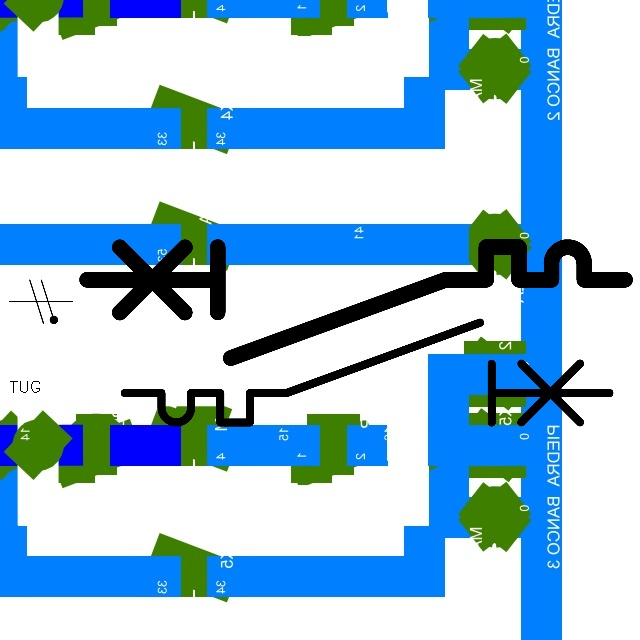interruptor_termomagnetico: (73, 233, 639, 371), (112, 310, 622, 435)
